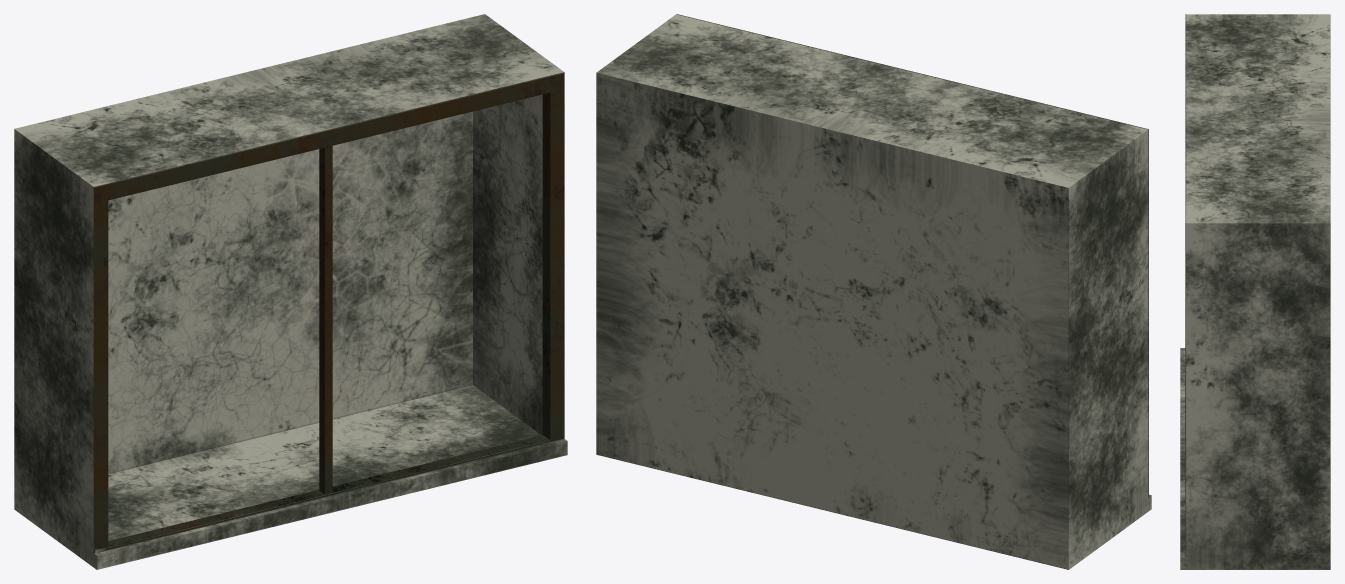
The model's file is ARMARIO.fbx.
The picture shows the model from 3 angles, left to right: view 1: azimuth 30°, elevation 25°; view 2: azimuth 150°, elevation 25°; view 3: azimuth 270°, elevation 25°; orthographic projection. The views are drawn at different scales.
Visible parts, largest first — view 1: ARMARIO; view 2: ARMARIO; view 3: ARMARIO.
Boxes of the visible parts, left/top/right/bottom form: ARMARIO: left=14, top=14, right=567, bottom=569; ARMARIO: left=596, top=14, right=1151, bottom=569; ARMARIO: left=1180, top=14, right=1330, bottom=569.
Bounding box in the file's own units: 352 × 272 × 107.
